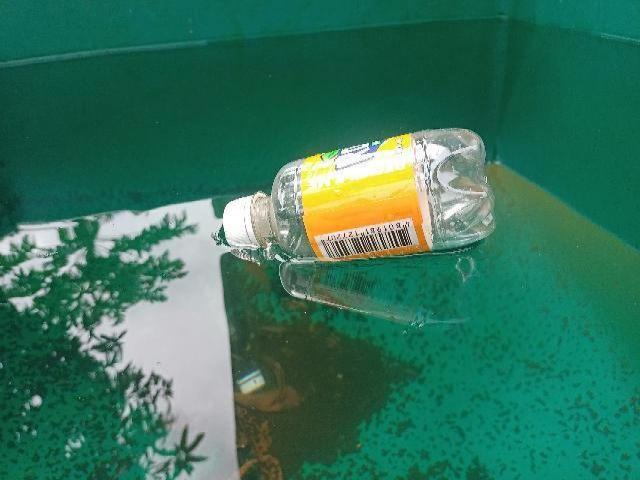Bottle: (215, 123, 499, 269)
